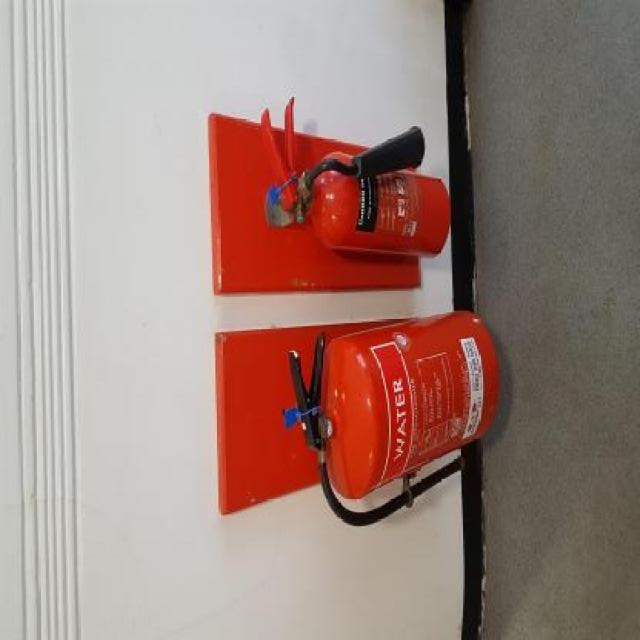fire extinguisher: (287, 308, 499, 528), (259, 96, 453, 261)
